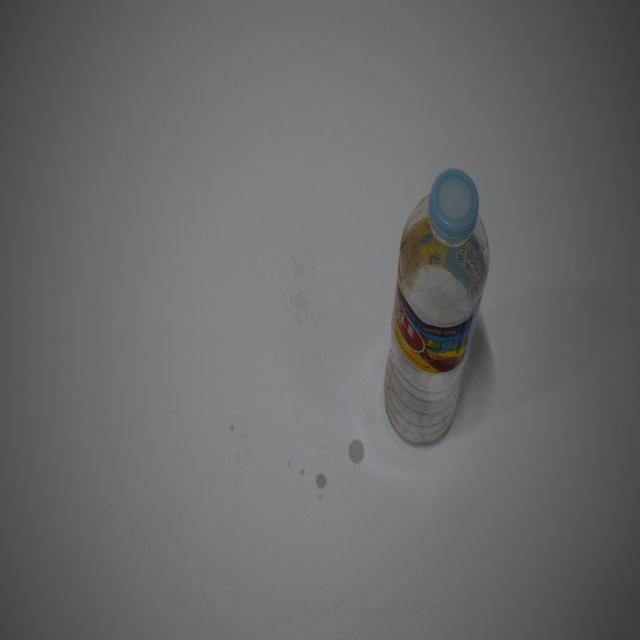bottle: (372, 148, 506, 470)
